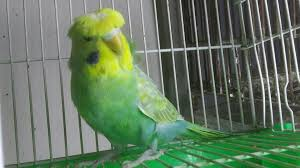budgie: (68, 8, 213, 164)
